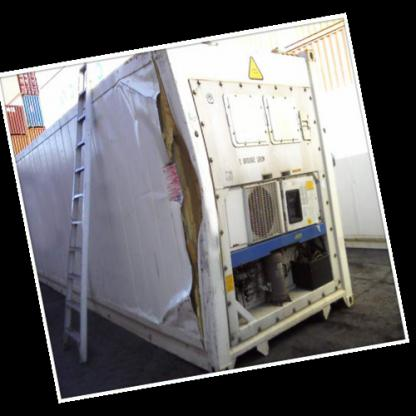Damage: (152, 55, 226, 345)
